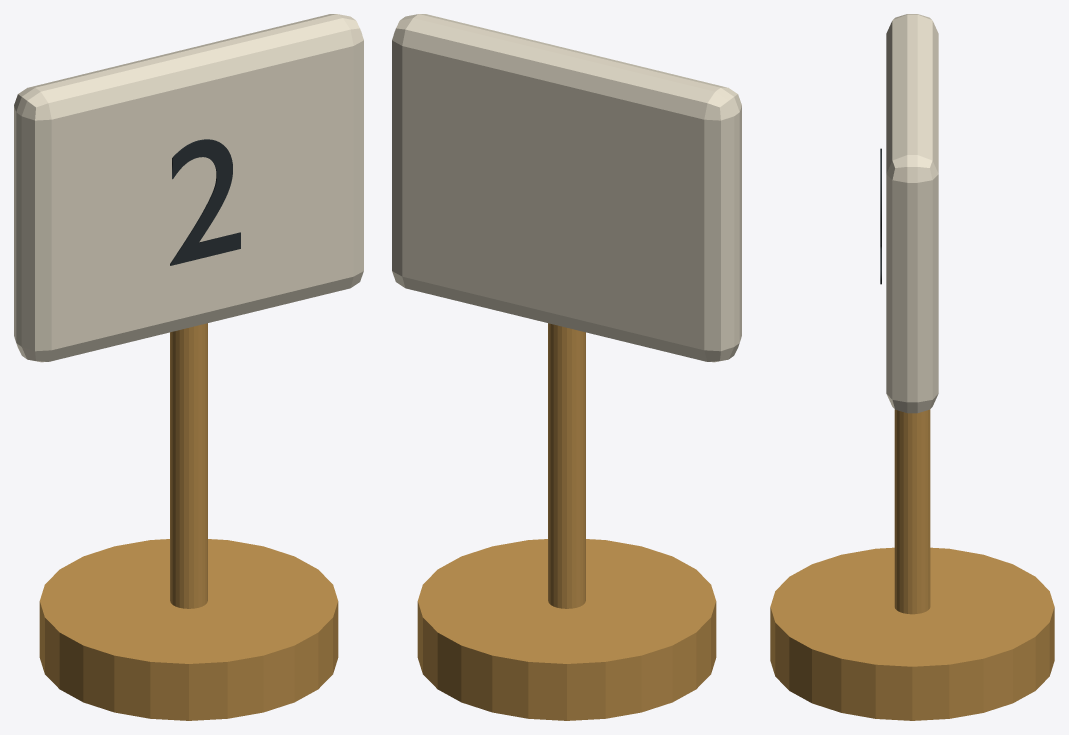
The model's file is table_sign_2.glb.
The picture shows the model from 3 angles, left to right: view 1: azimuth 30°, elevation 25°; view 2: azimuth 150°, elevation 25°; view 3: azimuth 270°, elevation 25°; orthographic projection. The views are drawn at different scales.
Visible parts, largest first — view 1: table_sign_2; view 2: table_sign_2; view 3: table_sign_2.
Boxes of the visible parts, bbox=[...] form: table_sign_2: bbox=[14, 14, 363, 720]; table_sign_2: bbox=[392, 14, 741, 720]; table_sign_2: bbox=[770, 14, 1054, 720].
Bounding box in the file's own units: 0.25 × 0.425 × 0.19.
